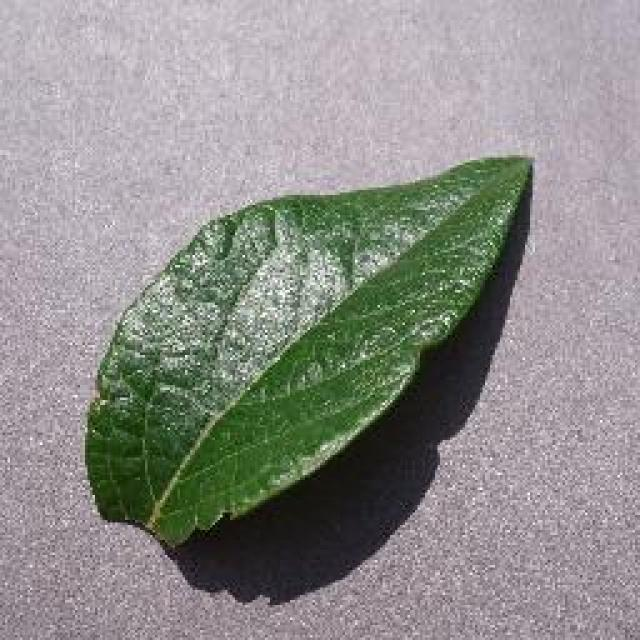Blu_healthy: (88, 222, 430, 478)
